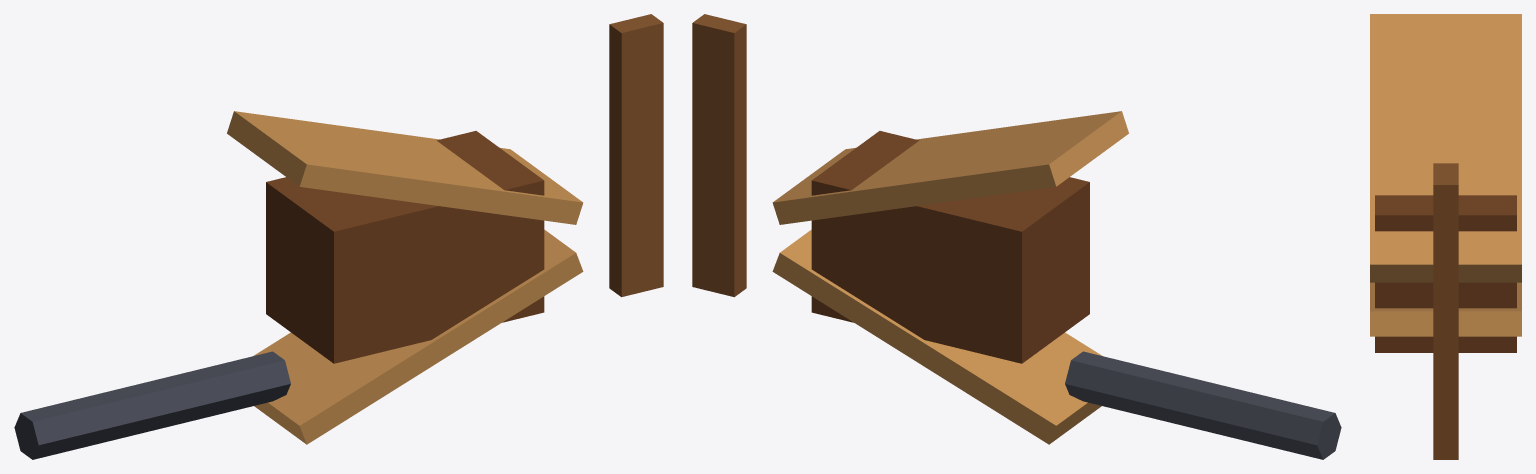
File: bellows.glb
3 renders of one model, left to right at view 1: azimuth 30°, elevation 25°; view 2: azimuth 150°, elevation 25°; view 3: azimuth 270°, elevation 25°, orthographic. The views are drawn at different scales.
Parts seen in each view (by area): view 1: bellows; view 2: bellows; view 3: bellows.
Boxes of the visible parts, box(x1,y1,x2,y2) form: bellows: box(14, 14, 663, 459); bellows: box(692, 14, 1341, 459); bellows: box(1370, 14, 1521, 459).
Bounding box in the file's own units: 1.5 × 0.6935 × 0.3.
